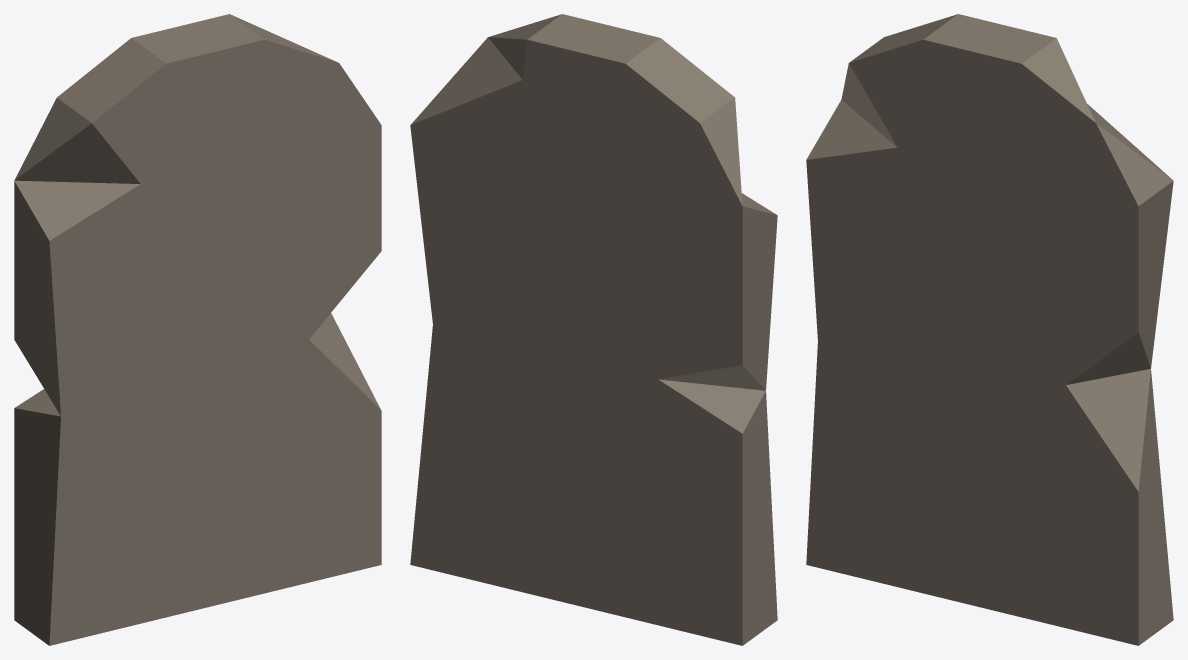
The model's file is SM_Prop_Grave_03.fbx.
The picture shows the model from 3 angles, left to right: view 1: azimuth 30°, elevation 25°; view 2: azimuth 150°, elevation 25°; view 3: azimuth 330°, elevation 25°; orthographic projection.
Visible parts, largest first — view 1: SM_Prop_Grave_03; view 2: SM_Prop_Grave_03; view 3: SM_Prop_Grave_03.
Part boxes in pixels (x1=…): SM_Prop_Grave_03: x1=14, y1=14, x2=381, y2=645; SM_Prop_Grave_03: x1=410, y1=14, x2=777, y2=645; SM_Prop_Grave_03: x1=806, y1=14, x2=1173, y2=645.
Size of the model in its own units: 0.6034 by 0.9609 by 0.1105.
